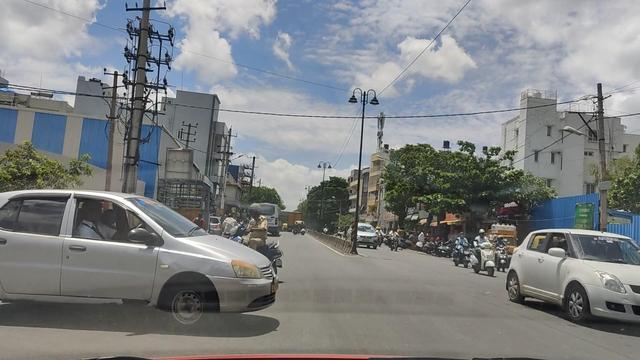LMV: (4, 187, 277, 323), (232, 204, 284, 257)
